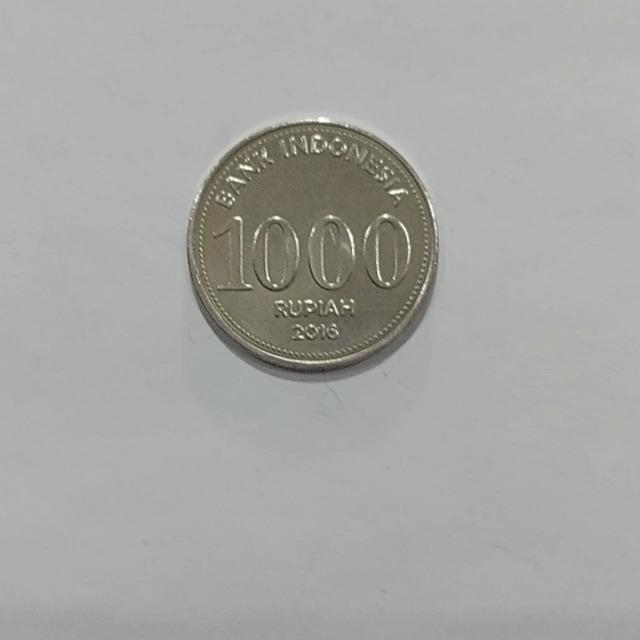Rp100: (184, 116, 439, 375)
